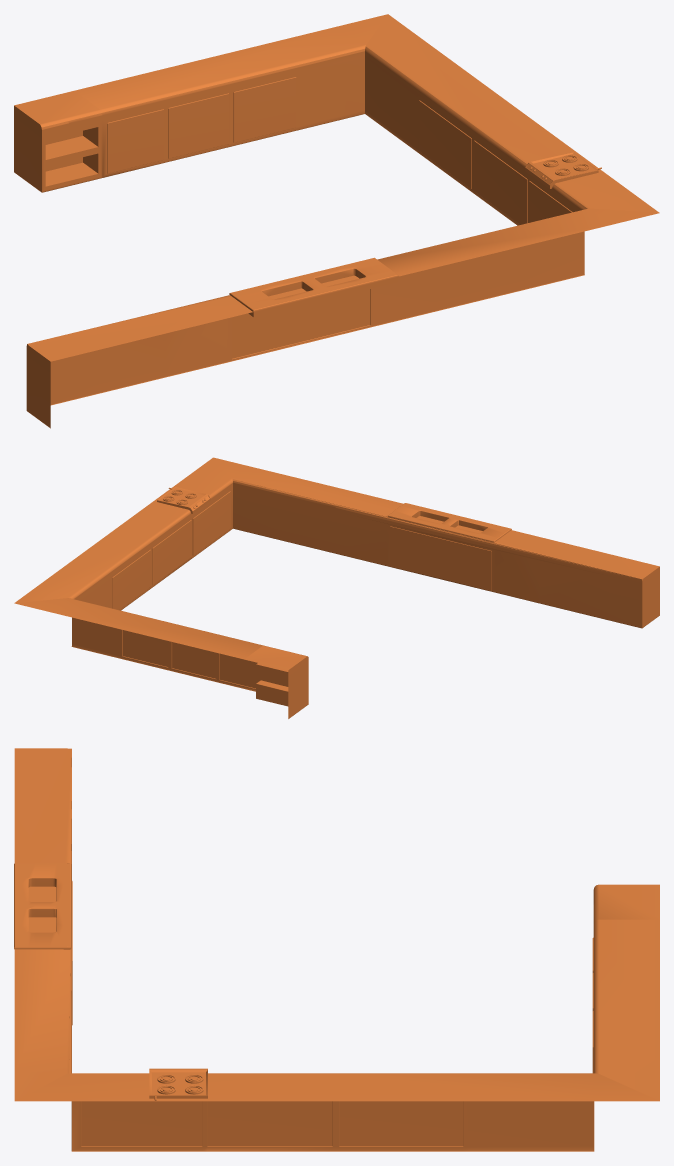
The model's file is Kitchen_Counterv4.fbx.
3 views of the same model, one above another, from view 1: azimuth 30°, elevation 25°; view 2: azimuth 150°, elevation 25°; view 3: azimuth 270°, elevation 25° (orthographic). The views are drawn at different scales.
Visible parts, largest first — view 1: Kitchen_Counter_v2; view 2: Kitchen_Counter_v2; view 3: Kitchen_Counter_v2.
Part boxes in pixels (left/top/right/bottom): Kitchen_Counter_v2: left=14, top=14, right=659, bottom=428; Kitchen_Counter_v2: left=14, top=457, right=659, bottom=718; Kitchen_Counter_v2: left=14, top=748, right=659, bottom=1151.
Bounding box in the file's own units: 2245 × 248 × 1734.
